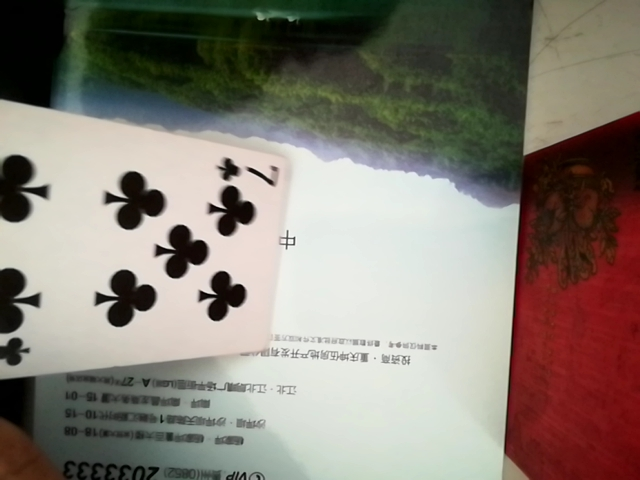mh 7: (0, 100, 292, 385)
